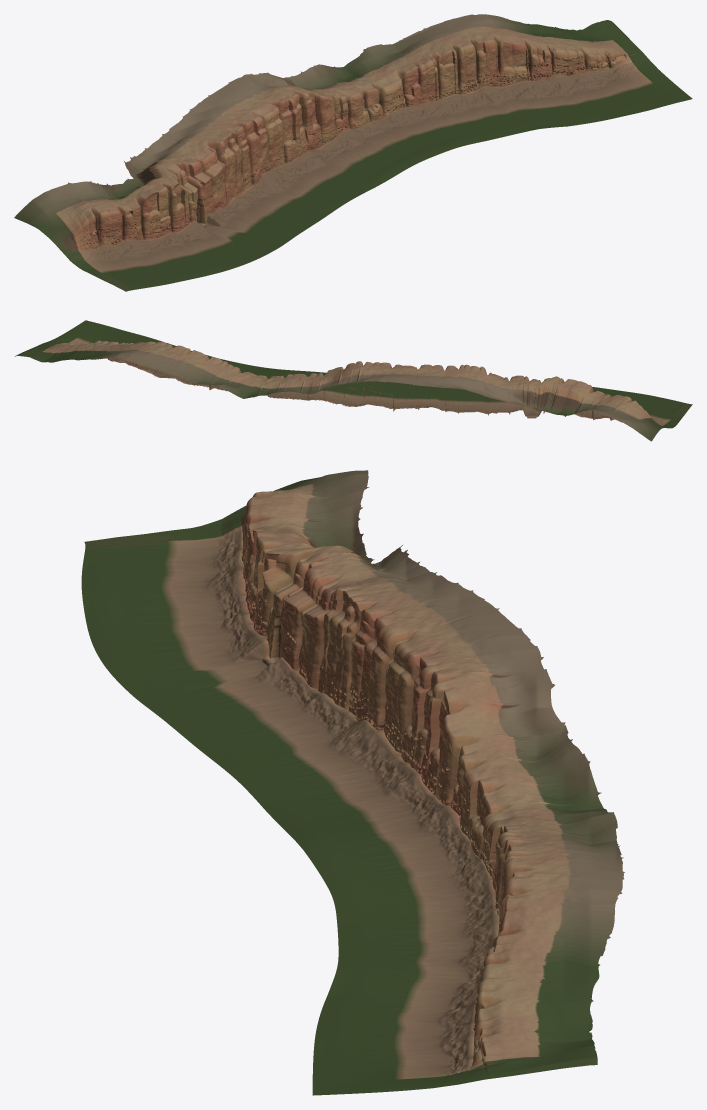
Rendered from cliff.glb.
The picture shows the model from 3 angles, top to bottom: view 1: azimuth 30°, elevation 25°; view 2: azimuth 150°, elevation 25°; view 3: azimuth 270°, elevation 25°; orthographic projection. The views are drawn at different scales.
Parts seen in each view (by area): view 1: CliffExport; view 2: CliffExport; view 3: CliffExport.
Part boxes in pixels (left/top/right/bottom): CliffExport: left=14, top=14, right=692, bottom=291; CliffExport: left=15, top=320, right=692, bottom=441; CliffExport: left=81, top=470, right=624, bottom=1095.
Bounding box in the file's own units: 1525 × 159 × 621.
